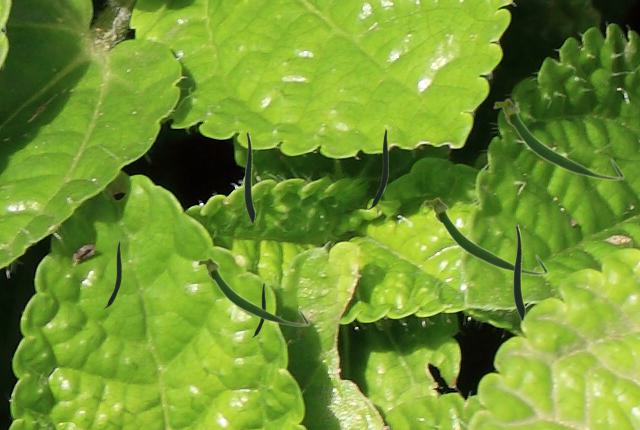french_bean: (492, 98, 624, 180), (422, 197, 548, 275), (196, 256, 309, 326), (368, 129, 387, 208), (513, 224, 524, 320), (104, 241, 120, 307), (244, 131, 254, 223), (252, 283, 264, 336)
